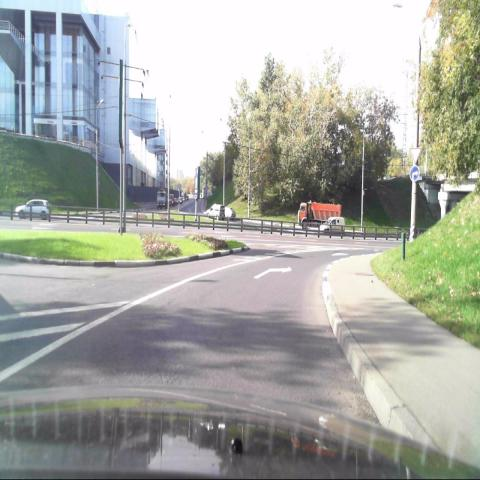4_1_2: (408, 164, 420, 184)
